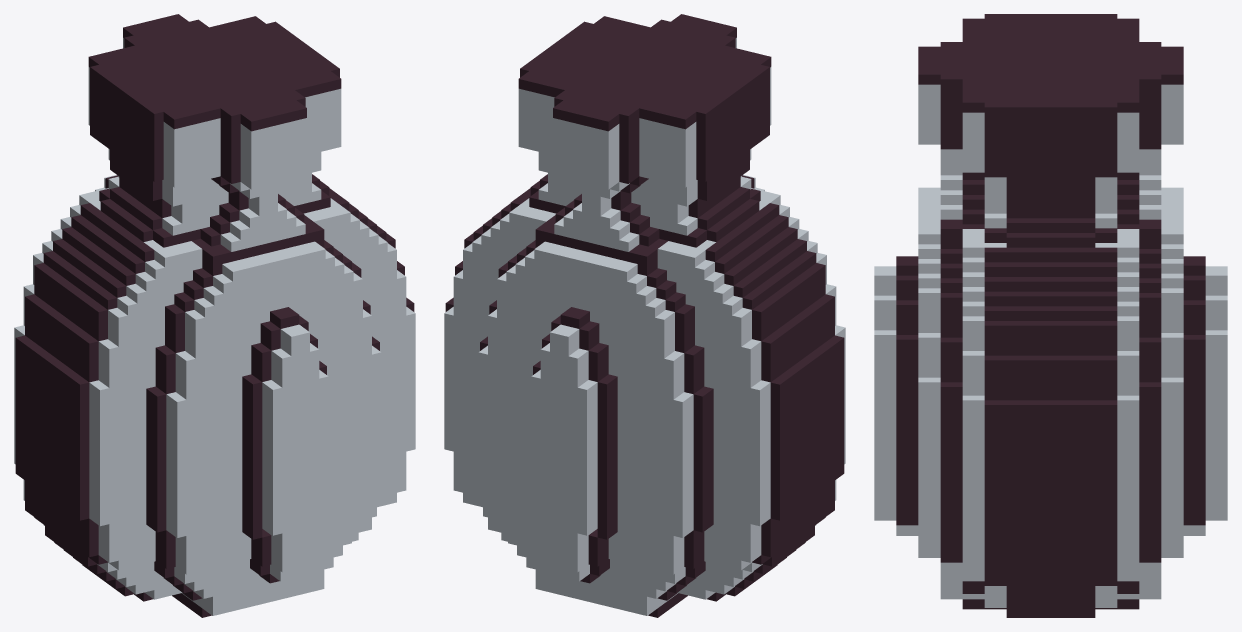
The model's file is Vase.fbx.
The picture shows the model from 3 angles, left to right: view 1: azimuth 30°, elevation 25°; view 2: azimuth 150°, elevation 25°; view 3: azimuth 270°, elevation 25°; orthographic projection. The views are drawn at different scales.
Parts seen in each view (by area): view 1: generated; view 2: generated; view 3: generated.
Boxes of the visible parts, x1,y1,x2,y2 form: generated: (14,14,415,617); generated: (444,14,845,617); generated: (874,14,1227,617).
Size of the model in its own units: 1440 by 2080 by 1280.
